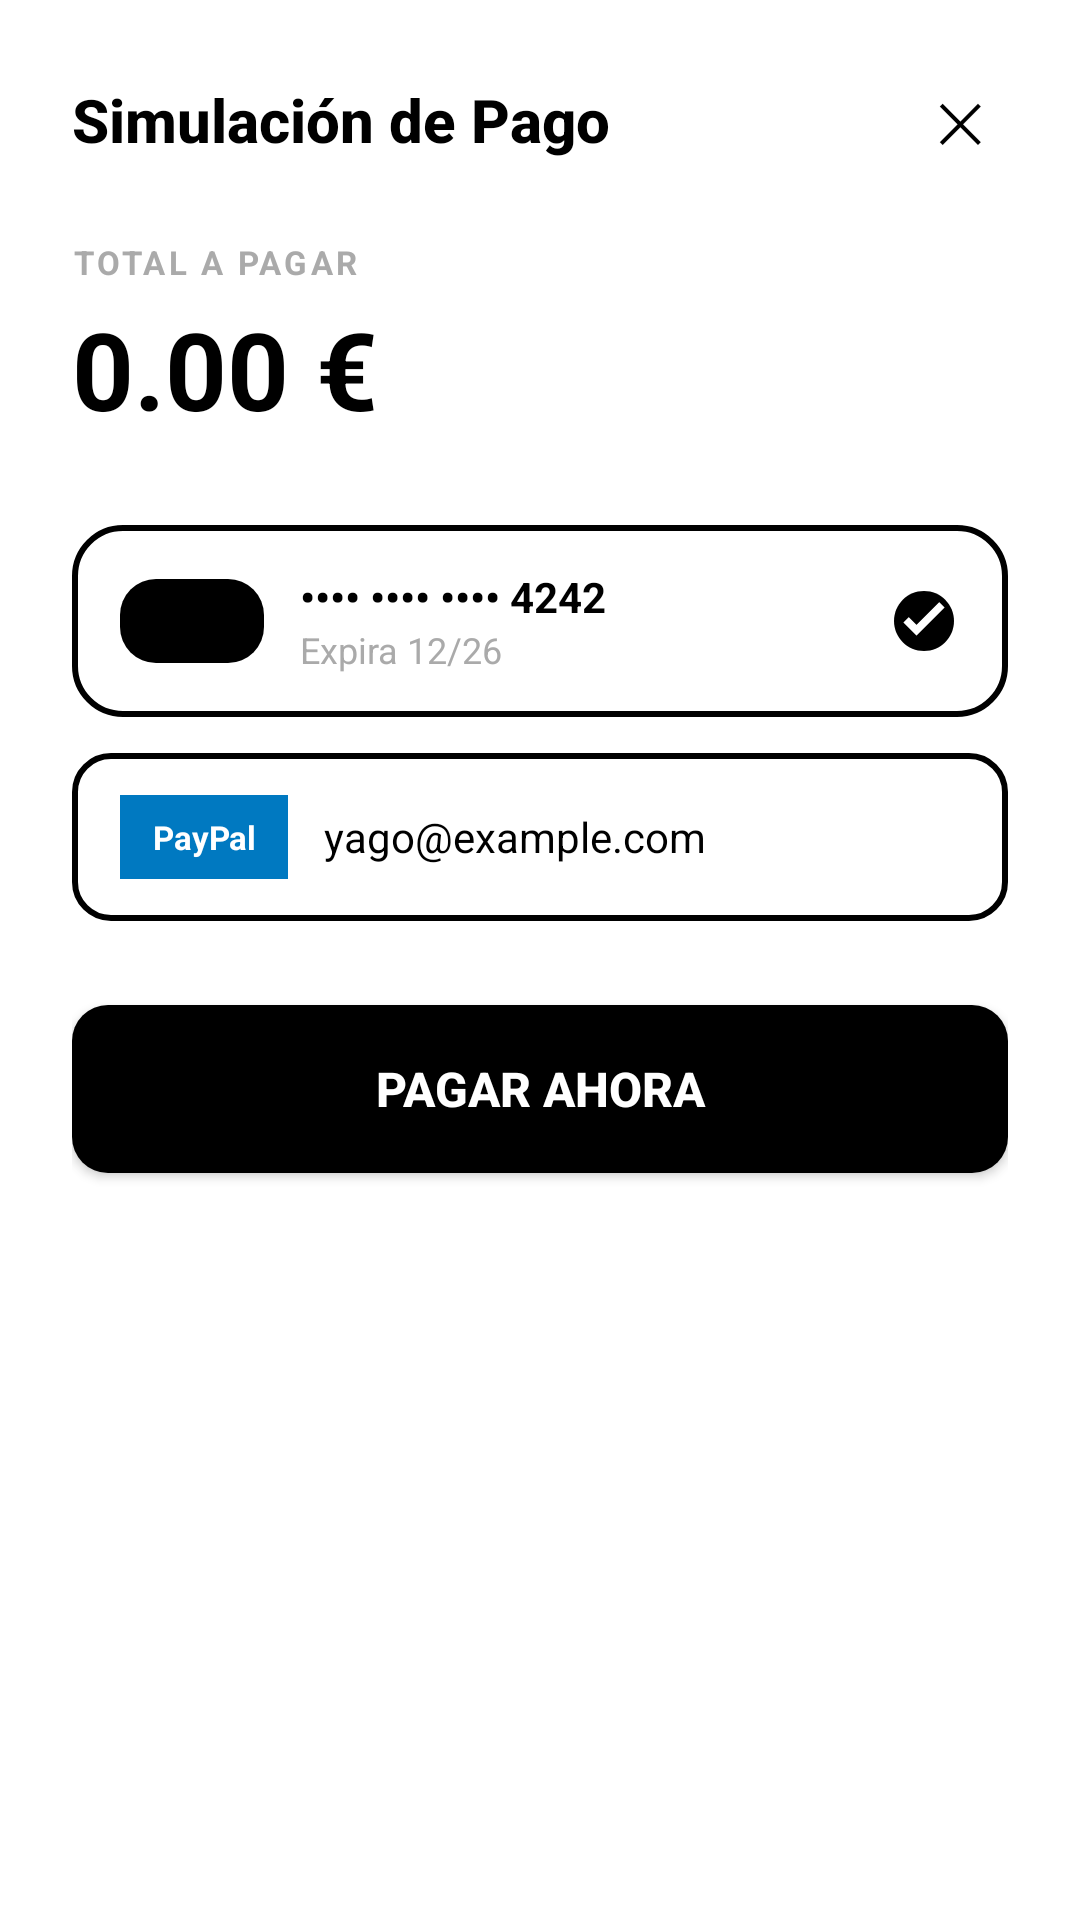

Screen size 1080px x 1920px. Icon name, then its box in pixels as (x1, y1, x2, y2):
check circle: (894, 591, 954, 651)
